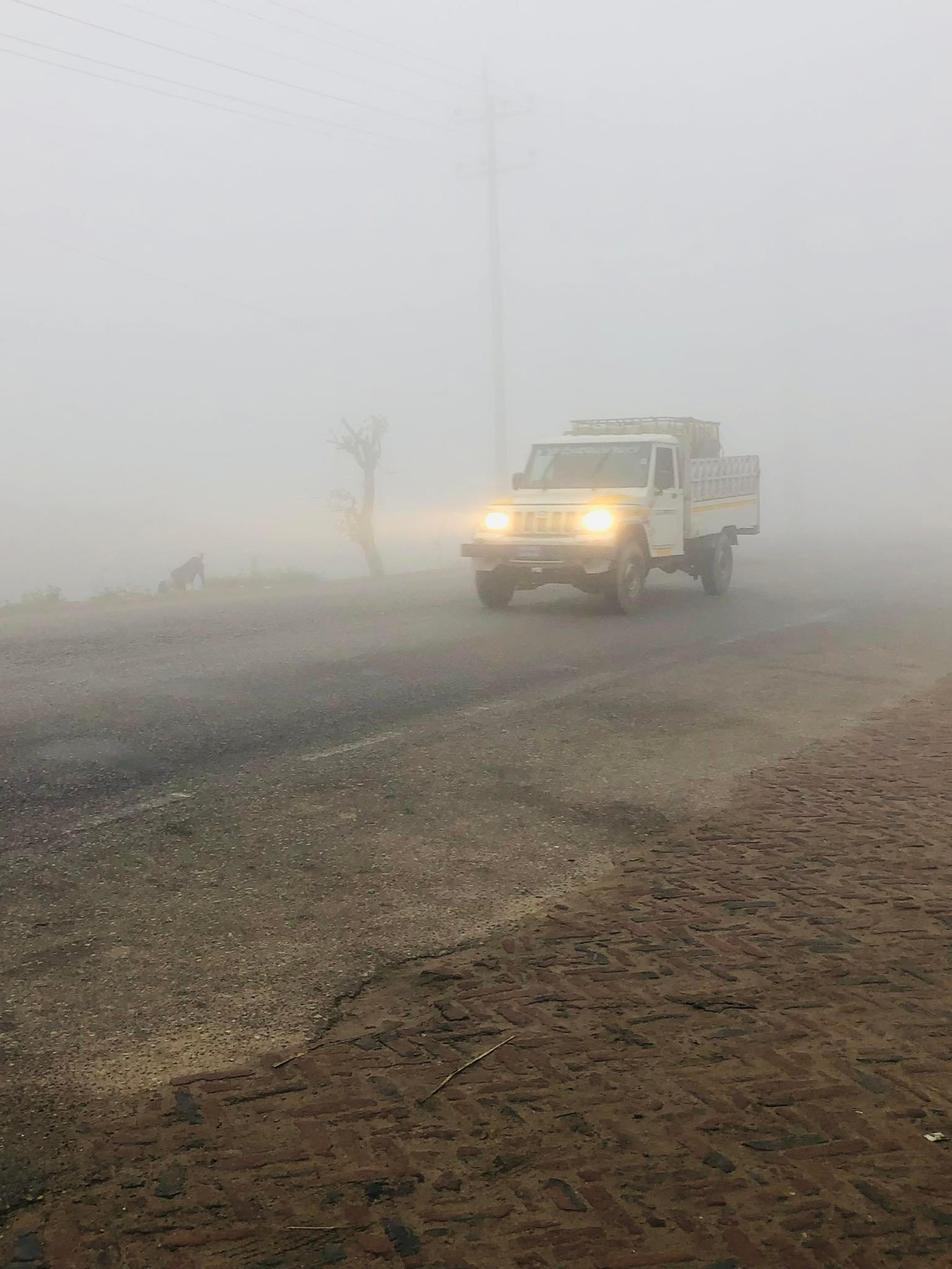Truck: (454, 398, 787, 616)
